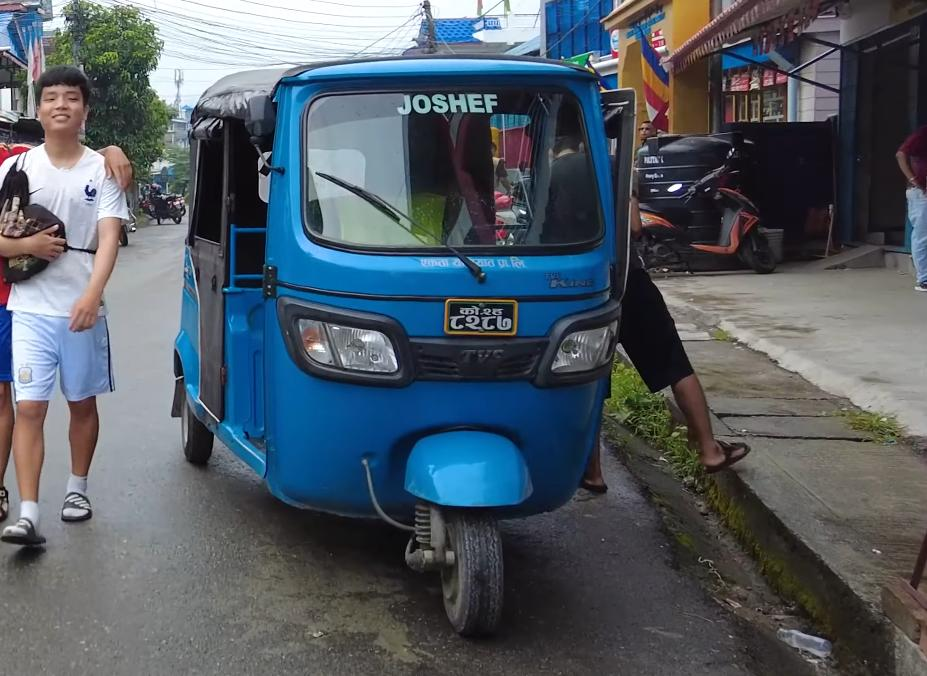auto_rickshaw: (159, 41, 644, 639)
